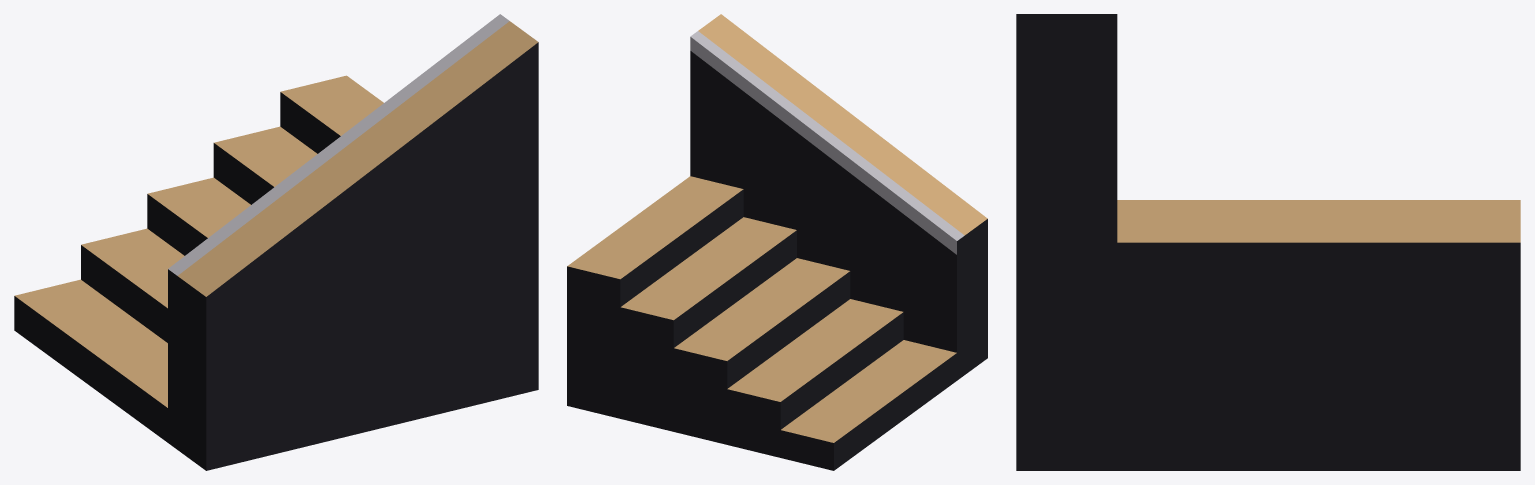
The model's file is Ledge_Stairs__LRG_R.fbx.
3 renders of one model, left to right at view 1: azimuth 30°, elevation 25°; view 2: azimuth 150°, elevation 25°; view 3: azimuth 270°, elevation 25°, orthographic. The views are drawn at different scales.
Parts seen in each view (by area): view 1: Ledge_Stairs__LRG_R; view 2: Ledge_Stairs__LRG_R; view 3: Ledge_Stairs__LRG_R.
Boxes of the visible parts, x1,y1,x2,y2 form: Ledge_Stairs__LRG_R: (14,14,538,470); Ledge_Stairs__LRG_R: (567,14,987,470); Ledge_Stairs__LRG_R: (1016,14,1520,470).
Size of the model in its own units: 10 by 10 by 10.
